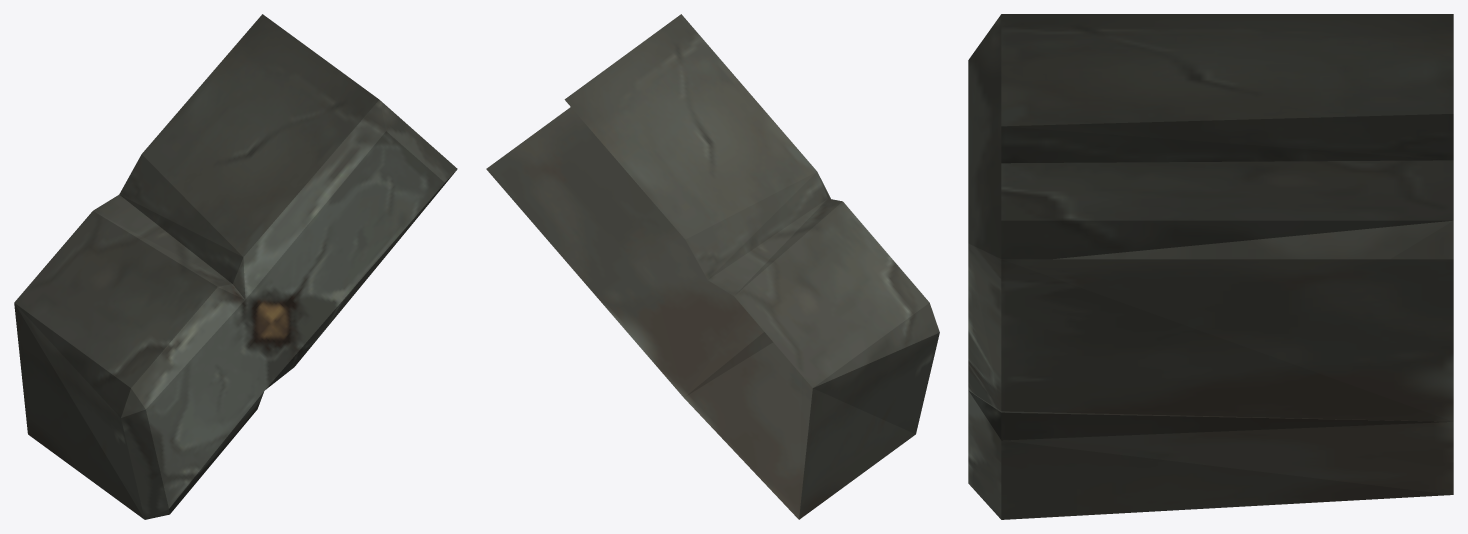
File: yw_shanlin_doortop_22.FBX
3 views of the same model, side by side, from view 1: azimuth 30°, elevation 25°; view 2: azimuth 150°, elevation 25°; view 3: azimuth 270°, elevation 25° (orthographic). The views are drawn at different scales.
Parts seen in each view (by area): view 1: yw_shanlin_doortop_22; view 2: yw_shanlin_doortop_22; view 3: yw_shanlin_doortop_22.
Boxes of the visible parts, x1,y1,x2,y2 form: yw_shanlin_doortop_22: [14, 14, 457, 519]; yw_shanlin_doortop_22: [486, 14, 939, 519]; yw_shanlin_doortop_22: [968, 14, 1453, 519].
Size of the model in its own units: 81.14 by 83.75 by 52.35.
